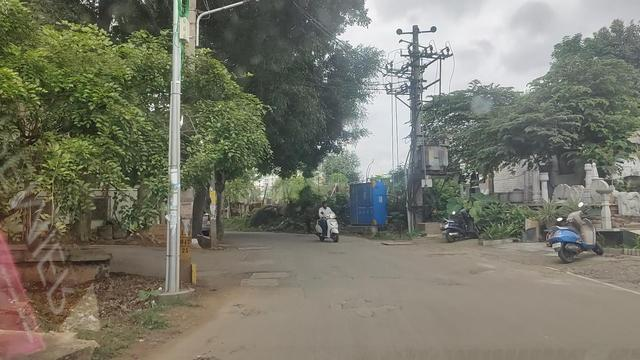LMV: (317, 201, 343, 242)
RoadDamages: (236, 267, 290, 289)
